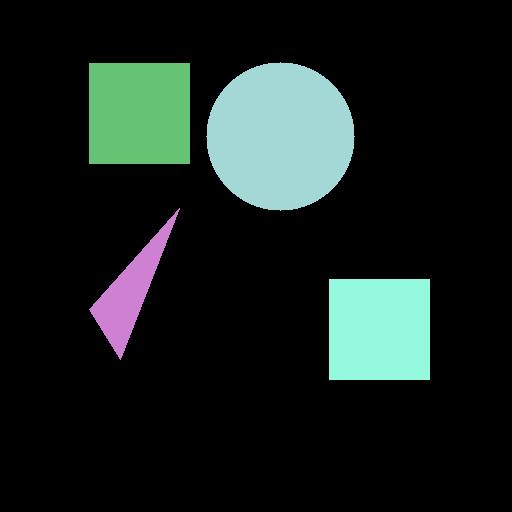circle: (206, 62, 354, 210)
square: (329, 279, 429, 379), (89, 63, 189, 163)
triangle: (89, 208, 179, 359)
